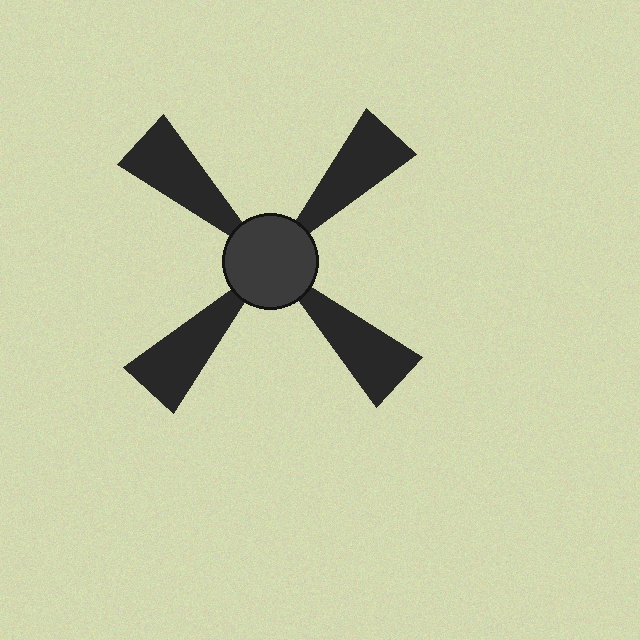fan: (63, 54, 477, 468)
